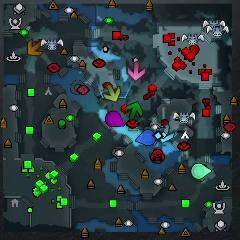p1: (136, 130, 156, 147)
p2: (192, 164, 211, 179)
p3: (106, 111, 124, 127)
x1: (127, 62, 145, 81)
x2: (103, 85, 120, 102)
x3: (158, 123, 175, 143)
x4: (127, 102, 143, 121)
x5: (27, 39, 45, 57)
